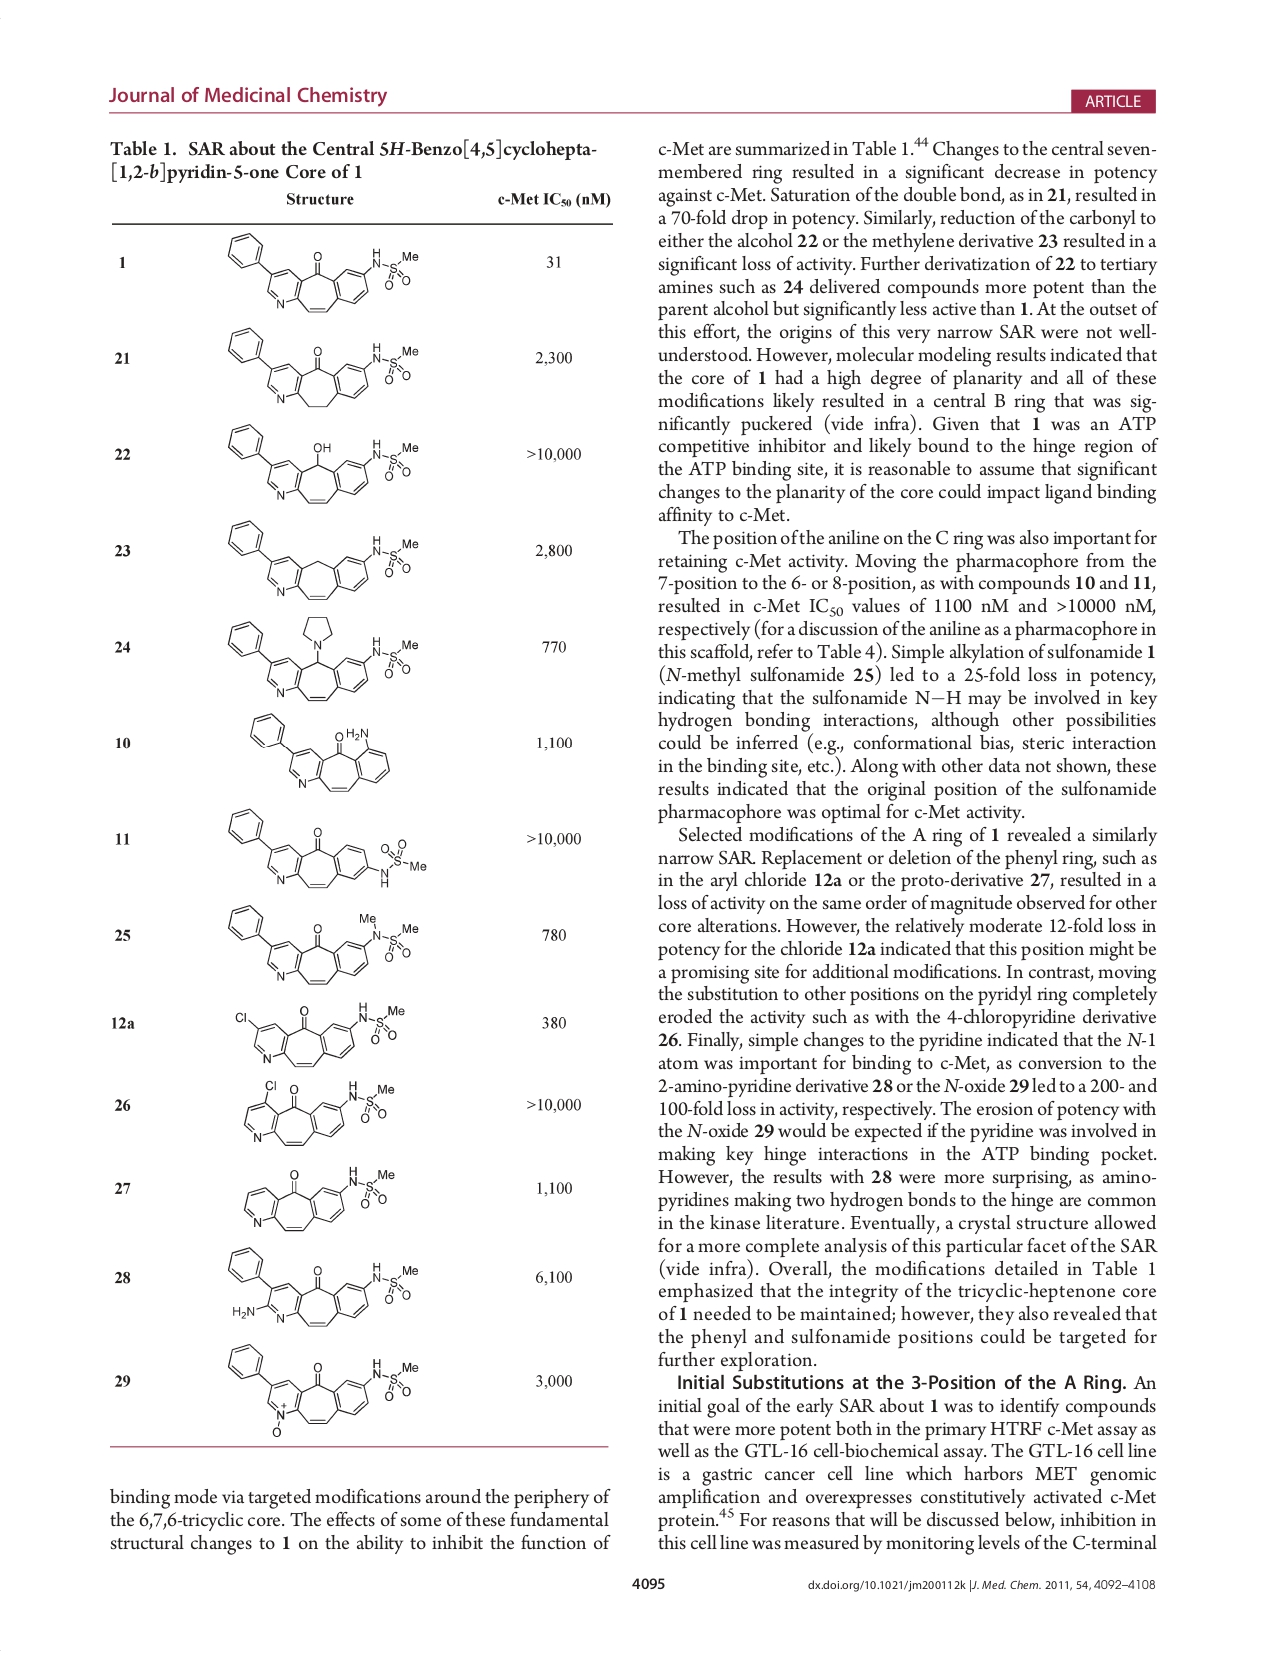exist_molecular: (226, 1339, 426, 1442), (223, 805, 430, 895), (221, 900, 426, 989), (225, 610, 420, 704), (223, 321, 423, 410), (221, 1241, 419, 1330), (226, 420, 420, 507), (225, 230, 422, 315), (225, 517, 422, 601), (247, 709, 392, 795), (238, 1072, 398, 1150), (230, 1001, 410, 1071), (237, 1157, 400, 1233)
